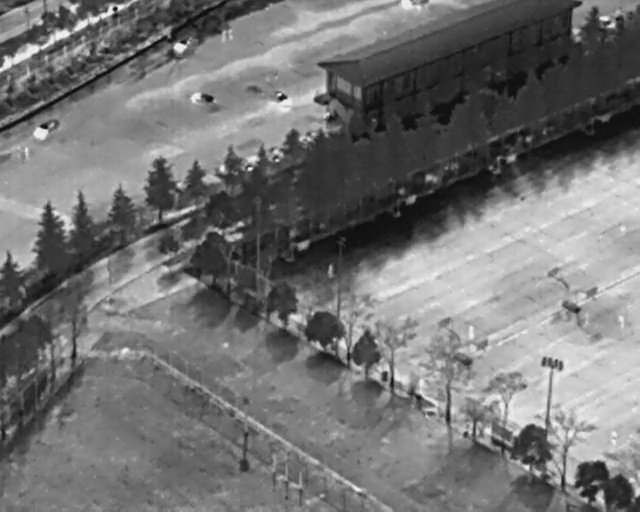Car: (188, 85, 225, 118), (29, 114, 63, 146), (169, 32, 198, 59), (241, 80, 267, 104), (269, 87, 292, 110)
Person: (619, 223, 628, 241), (609, 430, 618, 445), (617, 313, 624, 332), (468, 323, 475, 342), (327, 263, 334, 281), (23, 146, 30, 161), (221, 28, 228, 42), (227, 28, 233, 44)
